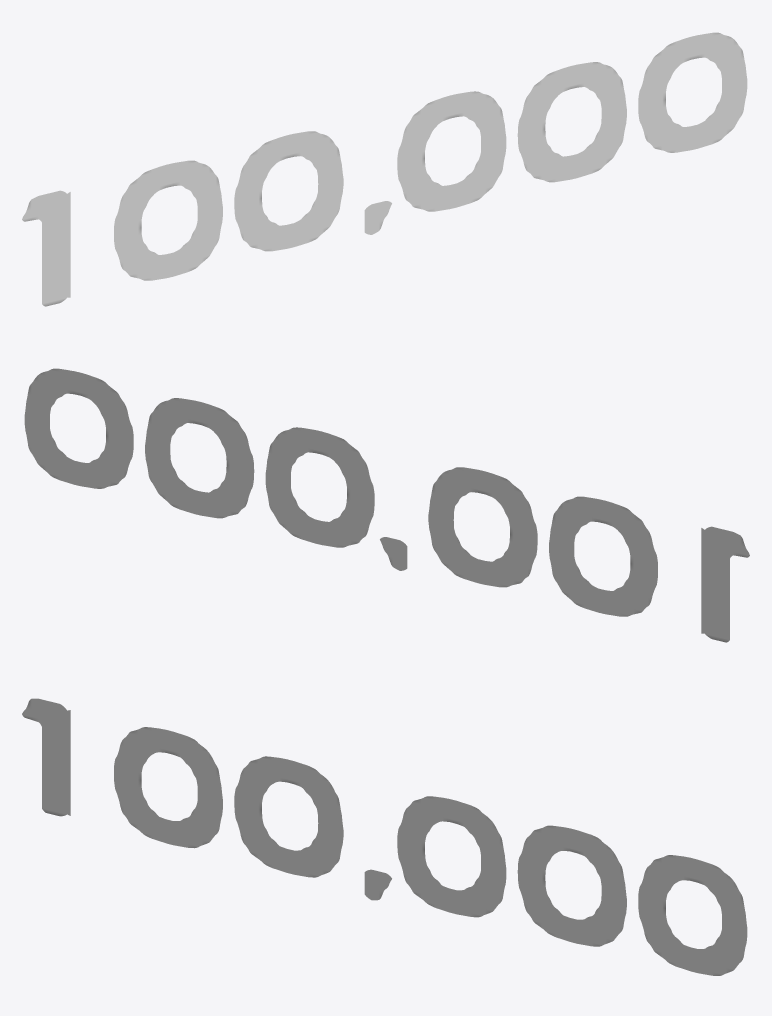
The model's file is Mesh_66_2418de0d__Watford_DB-22_ed023daf_9c9708.obj.
The picture shows the model from 3 angles, top to bottom: view 1: azimuth 30°, elevation 25°; view 2: azimuth 150°, elevation 25°; view 3: azimuth 330°, elevation 25°; orthographic projection.
Bounding box in the file's own units: 52.5 × 9.5 × 0.
1 material, 1 textured.
